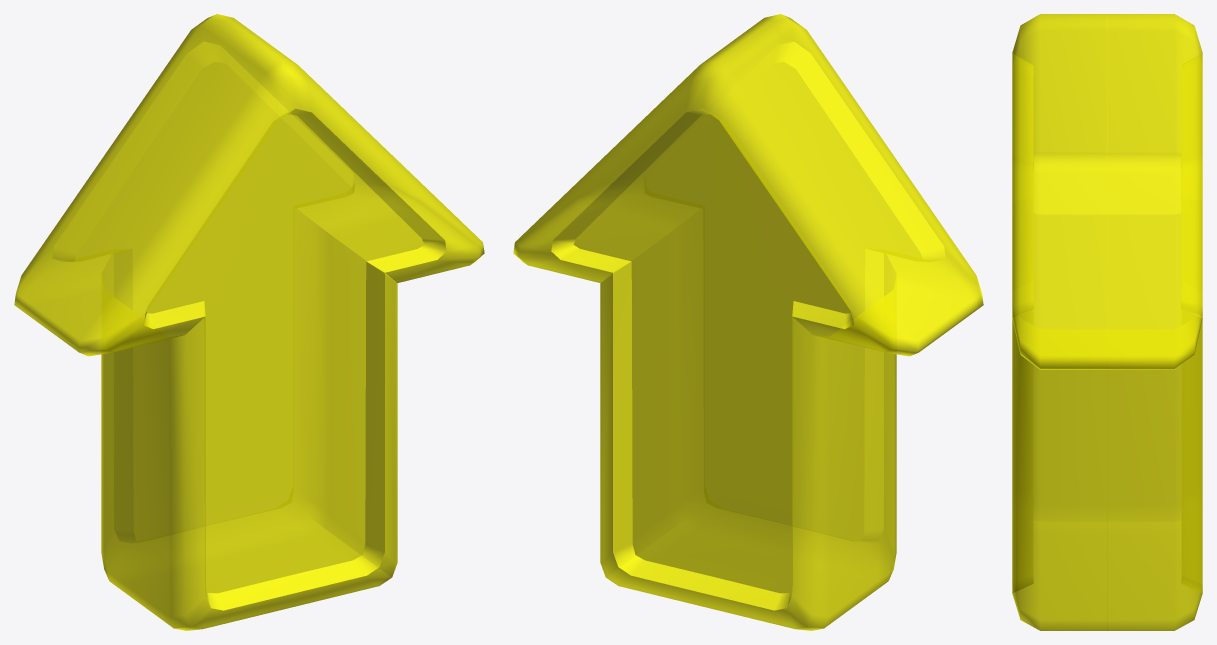
File: SpeedBoost_Symbol_v001.fbx
3 renders of one model, left to right at view 1: azimuth 30°, elevation 25°; view 2: azimuth 150°, elevation 25°; view 3: azimuth 270°, elevation 25°, orthographic. The views are drawn at different scales.
Parts seen in each view (by area): view 1: SpeedBoost_Mesh; view 2: SpeedBoost_Mesh; view 3: SpeedBoost_Mesh.
Part boxes in pixels (x1,y1,x2,y2): SpeedBoost_Mesh: [14, 14, 484, 630]; SpeedBoost_Mesh: [513, 14, 983, 630]; SpeedBoost_Mesh: [1012, 14, 1202, 630].
Size of the model in its own units: 4.91 by 6.32 by 1.92.
